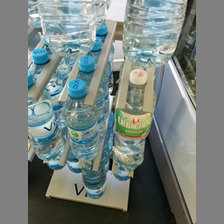water: (121, 1, 187, 69), (115, 69, 156, 173), (36, 1, 96, 57), (28, 69, 62, 163), (62, 79, 100, 162)
